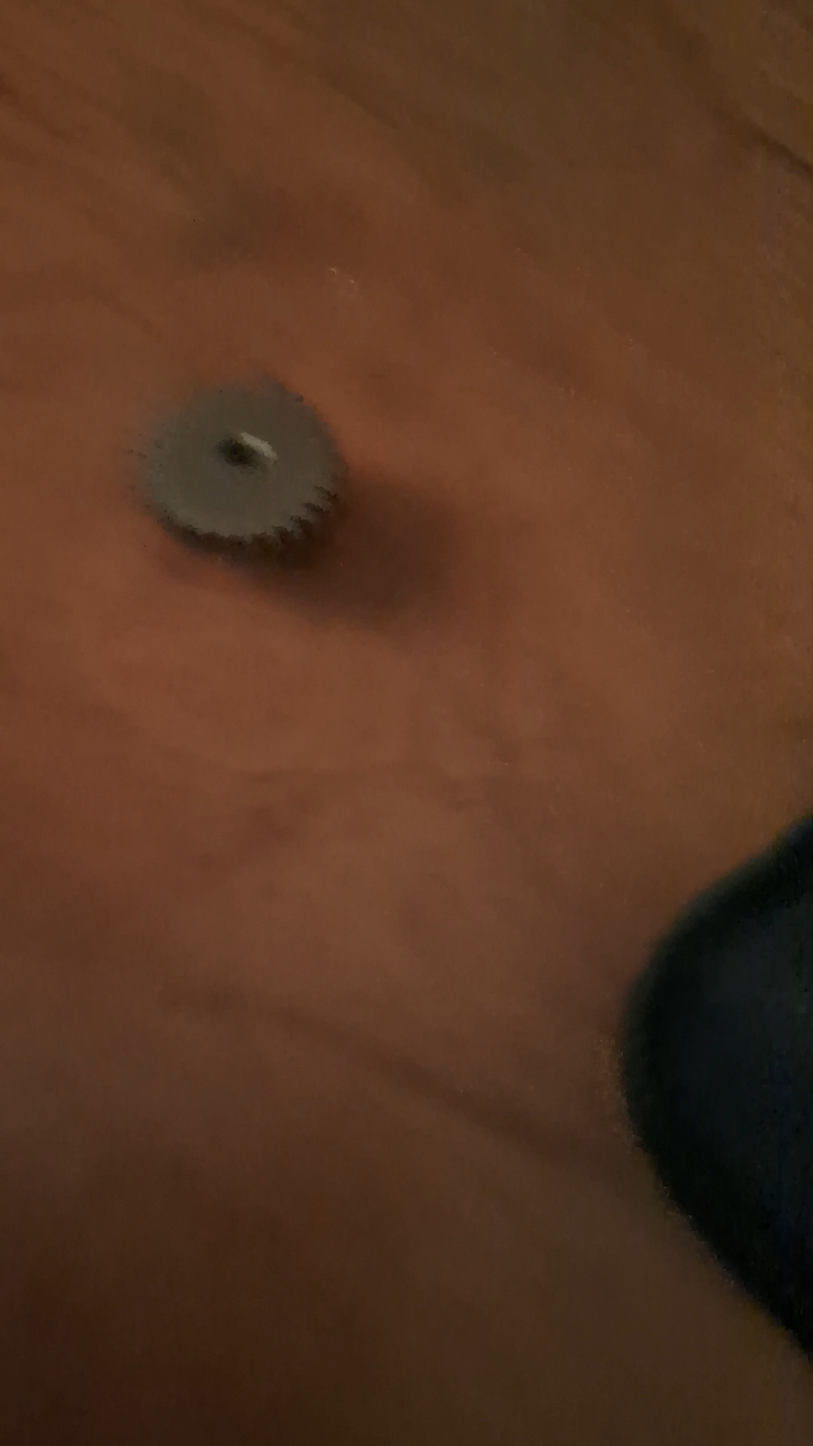spur gear: (144, 380, 343, 547)
